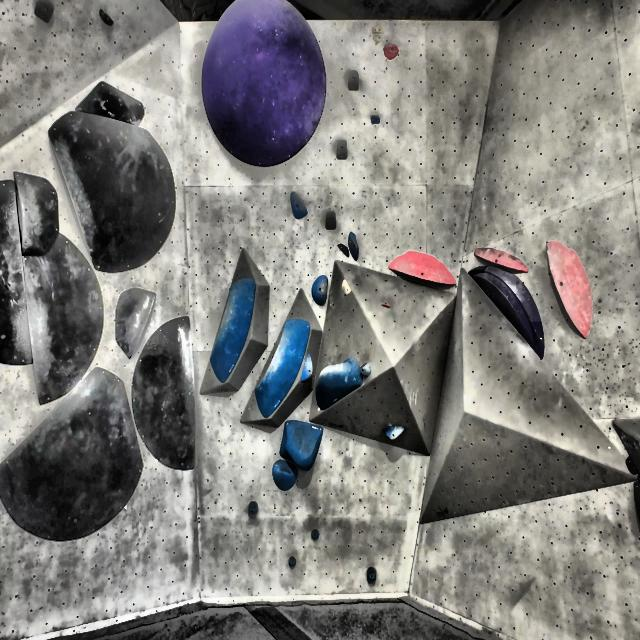Hold: (0, 371, 145, 540), (46, 111, 182, 271), (204, 0, 327, 168), (22, 224, 103, 402), (139, 310, 205, 474), (463, 271, 548, 363), (1, 168, 34, 374), (251, 310, 308, 426), (204, 273, 254, 388), (545, 238, 594, 340), (14, 162, 64, 252), (71, 78, 145, 123), (112, 281, 154, 354), (386, 245, 456, 288), (318, 354, 365, 414), (277, 419, 322, 472), (472, 237, 532, 275), (270, 460, 299, 492), (379, 37, 407, 69), (307, 273, 330, 308), (286, 191, 309, 224), (386, 417, 406, 448), (345, 68, 366, 95), (298, 354, 316, 384), (33, 1, 56, 24), (348, 227, 361, 264), (96, 7, 117, 29), (325, 206, 339, 233), (336, 134, 349, 162), (246, 501, 262, 518), (363, 568, 378, 584), (369, 109, 381, 126), (286, 555, 299, 570), (312, 529, 322, 544)
